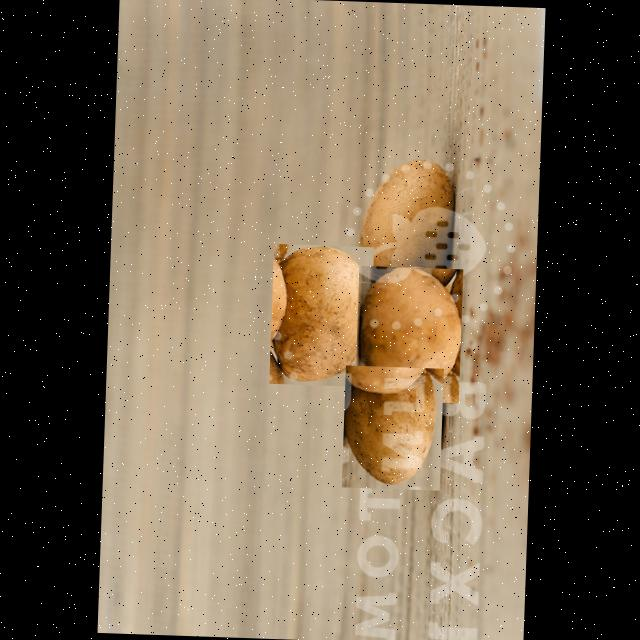Potato: (353, 265, 462, 403), (268, 244, 372, 386), (354, 158, 460, 290), (340, 365, 442, 490)
